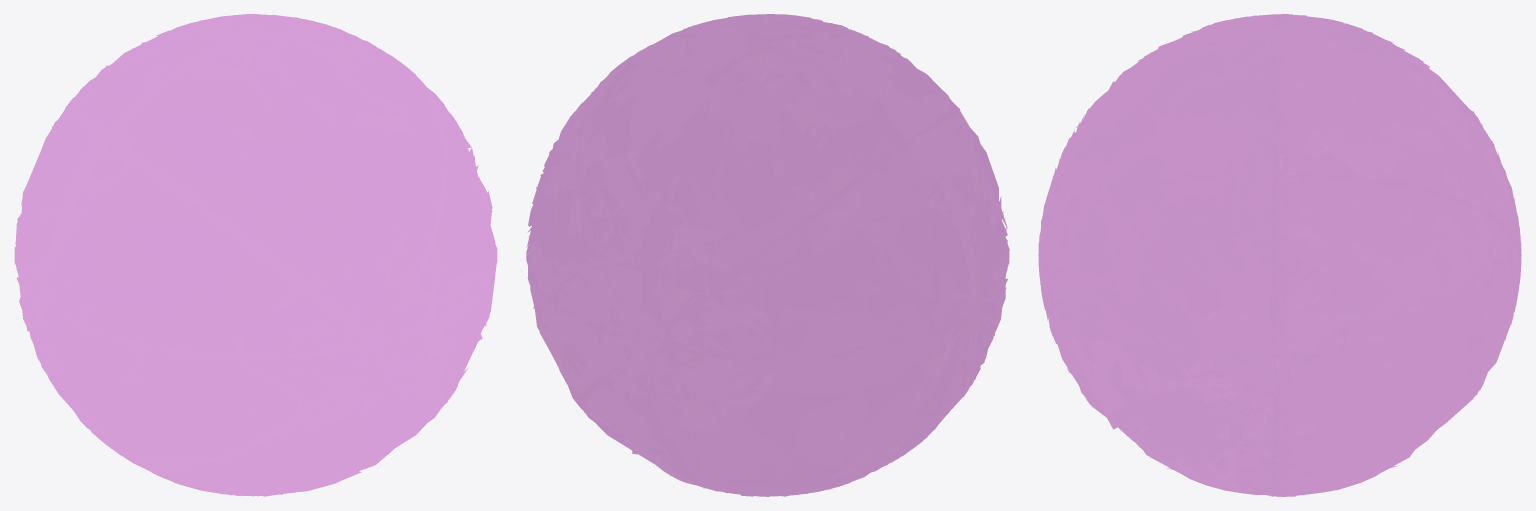
File: valve_panel.glb
3 renders of one model, left to right at view 1: azimuth 30°, elevation 25°; view 2: azimuth 150°, elevation 25°; view 3: azimuth 270°, elevation 25°, orthographic.
Visible parts, largest first — view 1: valve_panel; view 2: valve_panel; view 3: valve_panel.
Boxes of the visible parts, x1=… form: valve_panel: x1=14, y1=14, x2=497, y2=496; valve_panel: x1=526, y1=14, x2=1009, y2=496; valve_panel: x1=1038, y1=14, x2=1521, y2=496.
Size of the model in its own units: 2 by 2 by 2.
